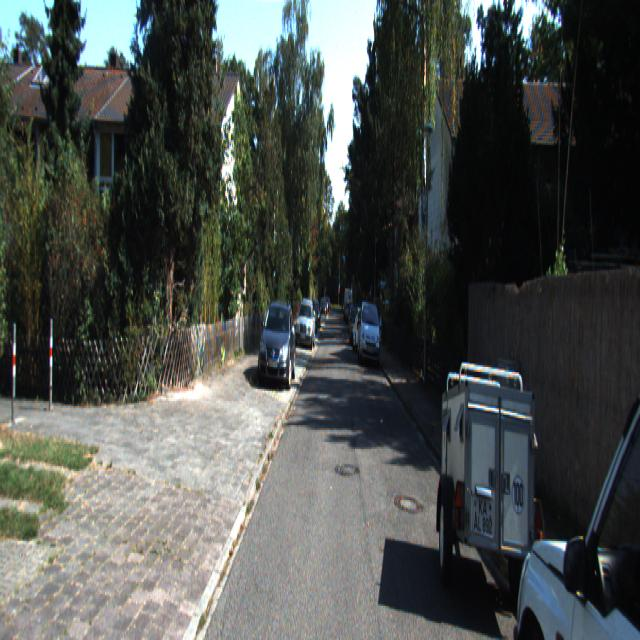Car: (508, 324, 640, 638), (258, 298, 294, 388), (358, 300, 381, 366), (296, 300, 316, 348)
DontCare: (317, 279, 356, 352)
Misc: (439, 348, 543, 630)
